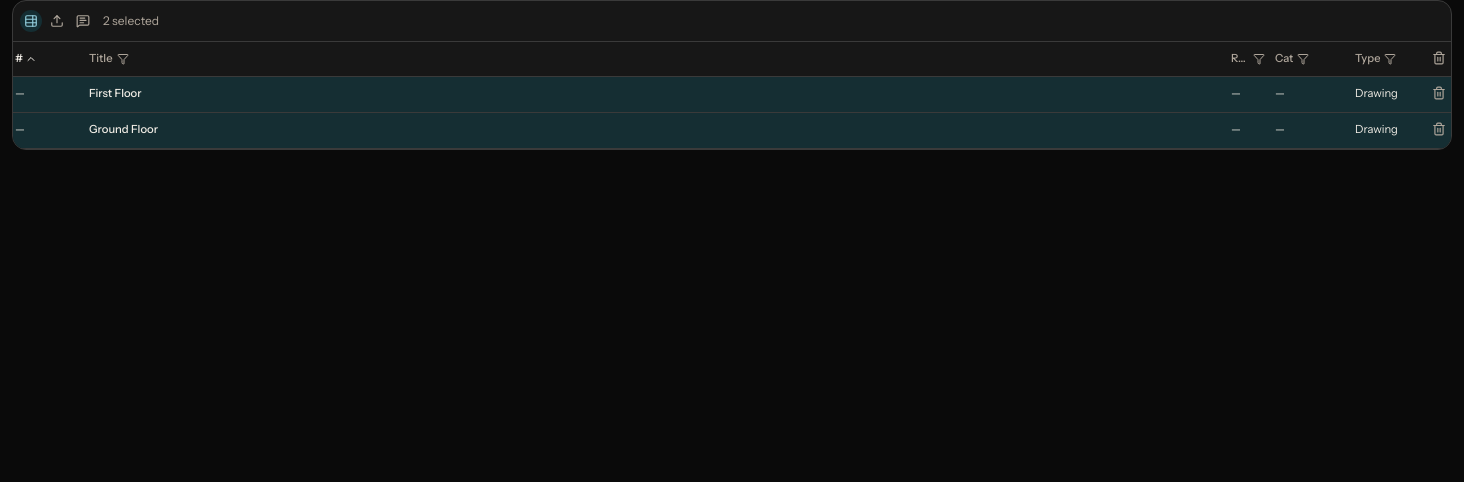
Scenario: DocumentRepositoryPanel bulk classification › changes the category for the selected source documents from the context menu
This screenshot has width=1464, height=482.
Right-click the text "Ground Floor".
right_click(123, 129)  # box [89,122,158,136]
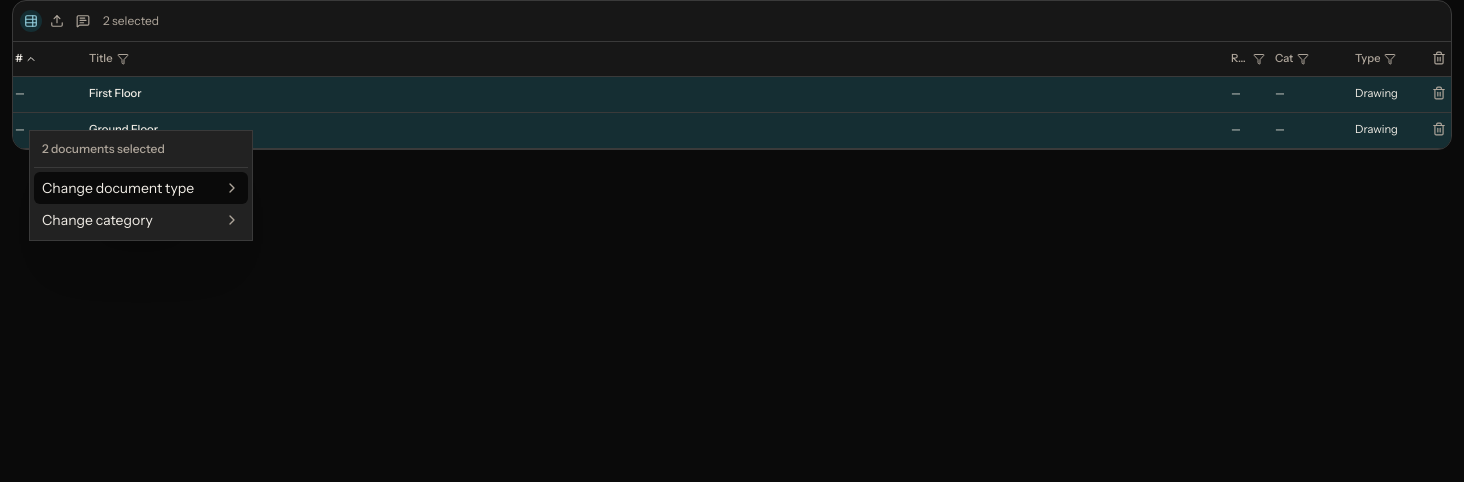
Press ArrowDown in the menu item "Change document type", box [34,172,248,204]
Press ArrowRight in the menu item "Change category", box [34,204,248,236]
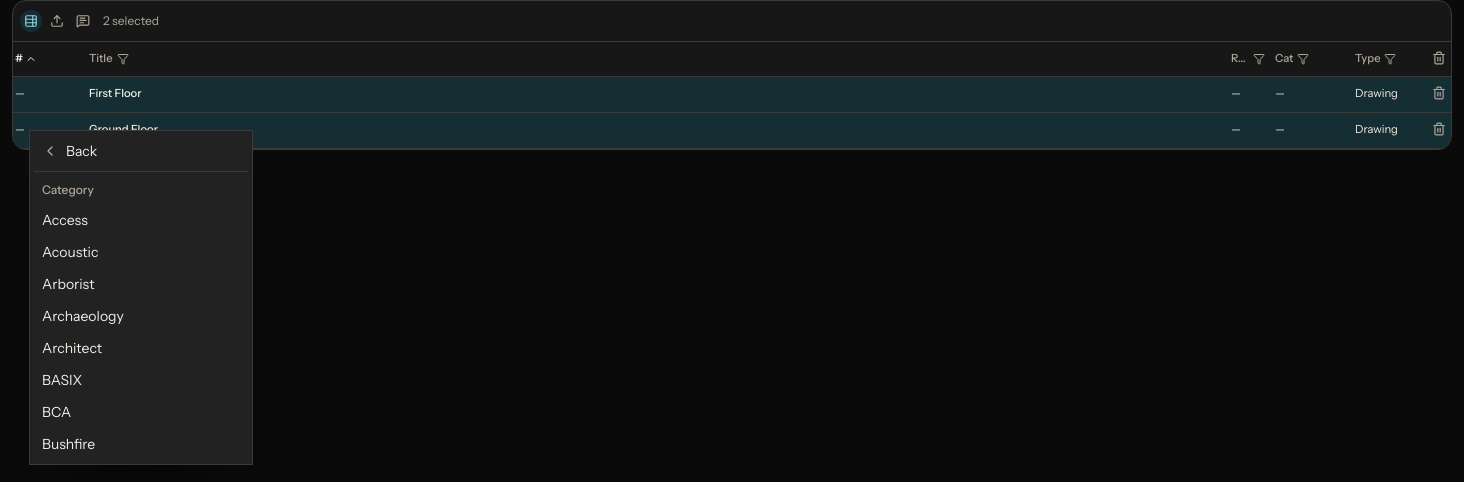
Click the menu item "Architect".
click(141, 348)  # box [34,332,248,364]
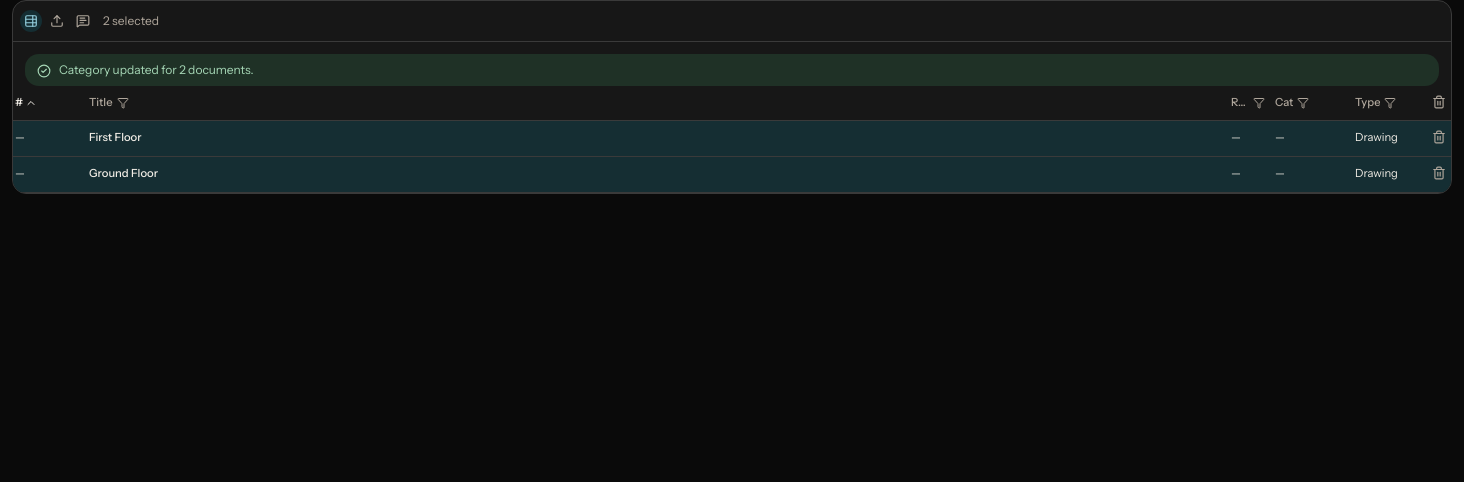
Expected: the message shows "Category updated for 2 documents", [59,62,254,77]
